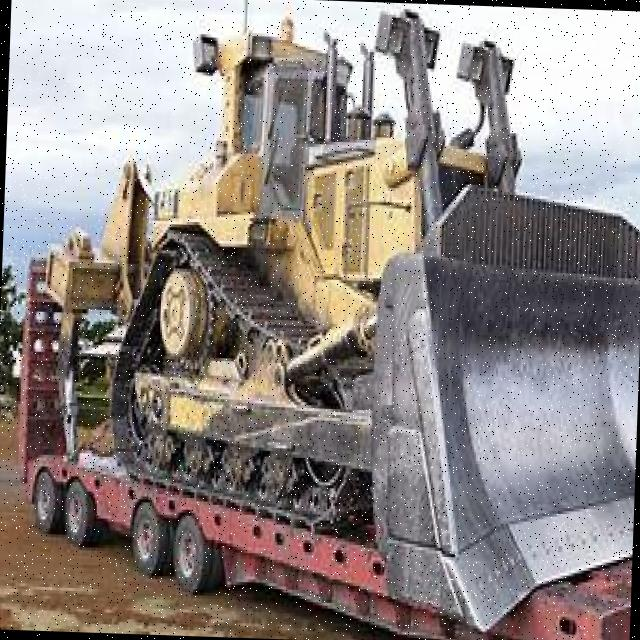Bulldozer: (25, 2, 640, 630)
